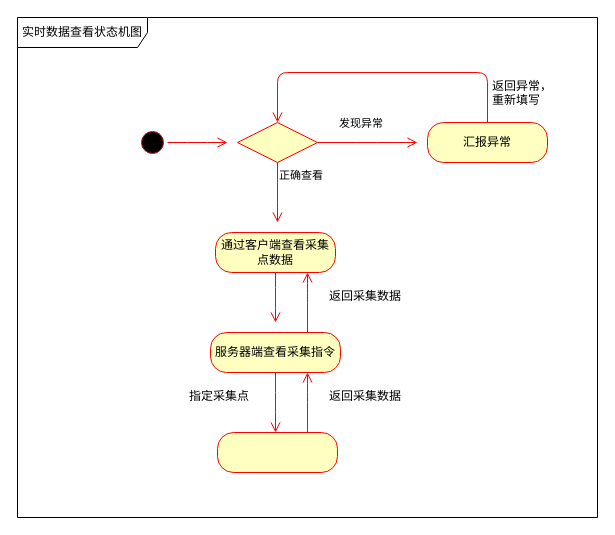
This 615x535 diagram has some shape labels left out. Here are the shapes that lost their labels. From the top down, the centre of each, then its label:
At (x=277, y=142): "发送采集指令".
At (x=277, y=452): "得到采集数据".
